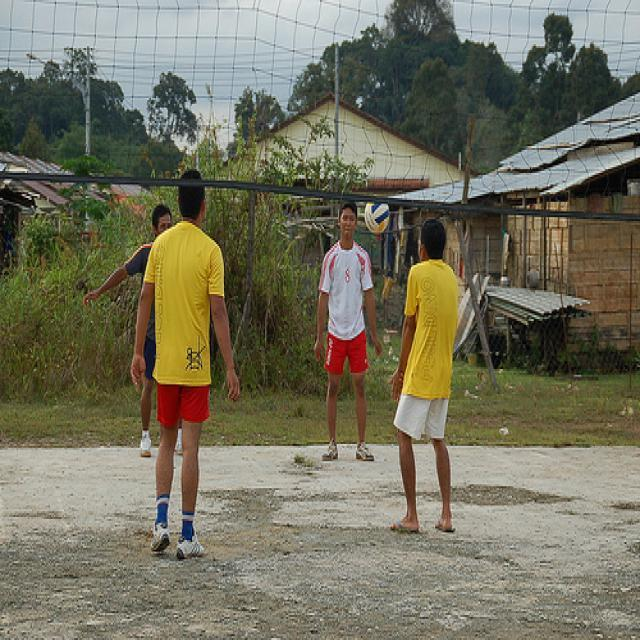volleyball: (364, 202, 390, 233)
